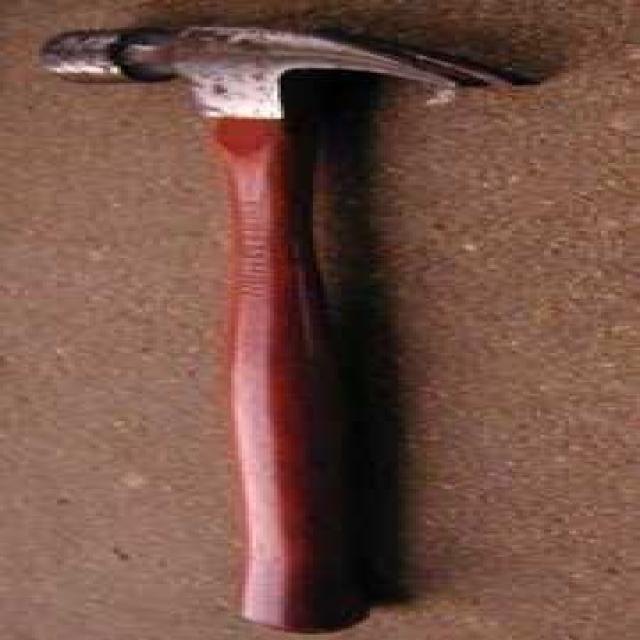hammer: (46, 28, 534, 632)
